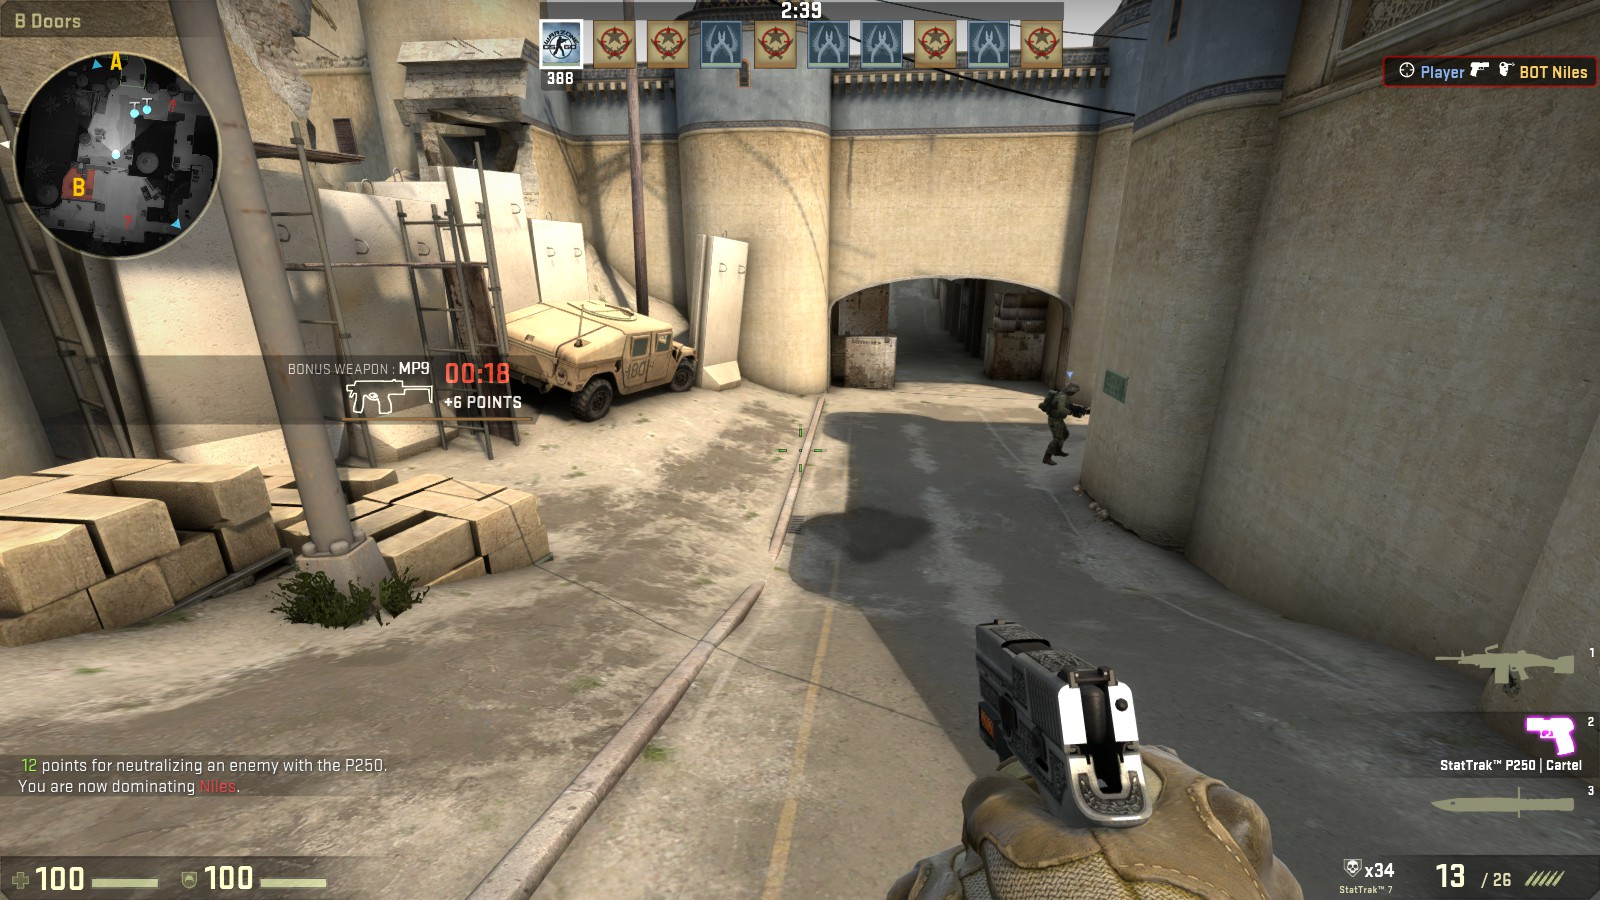c: (1038, 379, 1084, 463)
ch: (1059, 381, 1082, 396)
